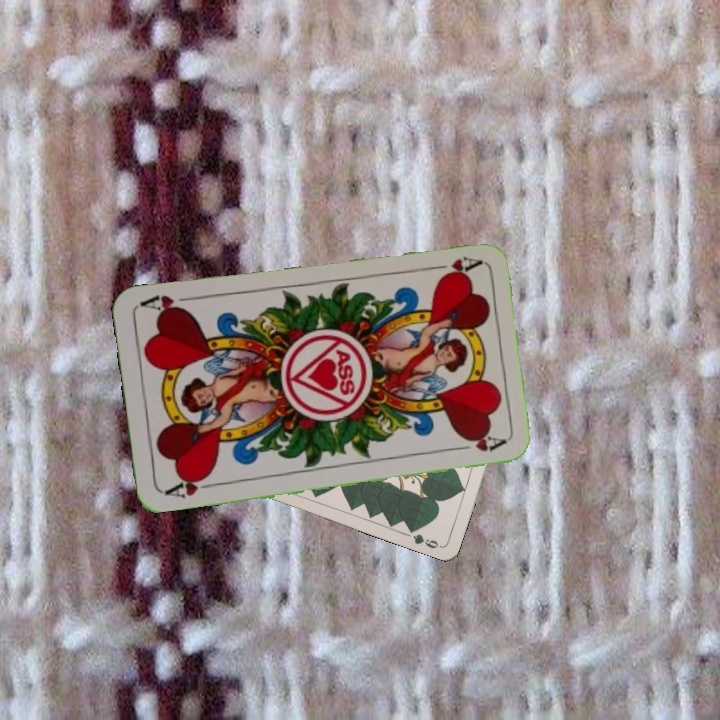HA: (161, 470, 219, 501), (423, 252, 483, 281)
